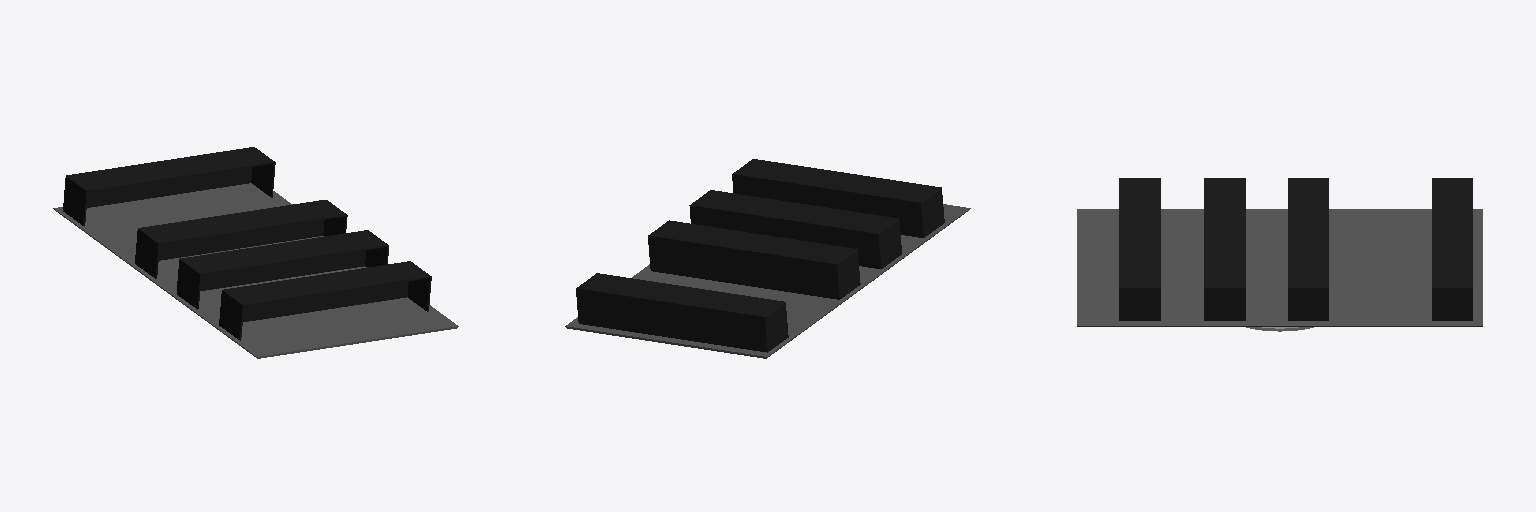
The model's file is dof_rootd_Aa002_r.obj.
3 renders of one model, left to right at view 1: azimuth 30°, elevation 25°; view 2: azimuth 150°, elevation 25°; view 3: azimuth 270°, elevation 25°, orthographic.
Visible parts, largest first — view 1: rootd_Aa002_g9__Geometry_0, rootd_Aa002_g7__Geometry_0, rootd_Aa002_g6__Geometry_0, rootd_Aa002_g5__Geometry_0, rootd_Aa002_g4__Geometry_0; view 2: rootd_Aa002_g7__Geometry_0, rootd_Aa002_g4__Geometry_0, rootd_Aa002_g6__Geometry_0, rootd_Aa002_g5__Geometry_0, rootd_Aa002_g9__Geometry_0; view 3: rootd_Aa002_g9__Geometry_0, rootd_Aa002_g5__Geometry_0, rootd_Aa002_g6__Geometry_0, rootd_Aa002_g7__Geometry_0, rootd_Aa002_g4__Geometry_0.
Part boxes in pixels (bbox=[...]): rootd_Aa002_g9__Geometry_0: bbox=[53, 183, 458, 358]; rootd_Aa002_g7__Geometry_0: bbox=[63, 147, 275, 225]; rootd_Aa002_g6__Geometry_0: bbox=[219, 261, 431, 340]; rootd_Aa002_g5__Geometry_0: bbox=[177, 230, 388, 309]; rootd_Aa002_g4__Geometry_0: bbox=[135, 200, 347, 278]; rootd_Aa002_g7__Geometry_0: bbox=[576, 273, 788, 352]; rootd_Aa002_g4__Geometry_0: bbox=[648, 220, 860, 299]; rootd_Aa002_g6__Geometry_0: bbox=[732, 159, 944, 237]; rootd_Aa002_g5__Geometry_0: bbox=[689, 190, 901, 268]; rootd_Aa002_g9__Geometry_0: bbox=[565, 204, 970, 358]; rootd_Aa002_g9__Geometry_0: bbox=[1077, 209, 1482, 326]; rootd_Aa002_g5__Geometry_0: bbox=[1204, 178, 1245, 320]; rootd_Aa002_g6__Geometry_0: bbox=[1119, 178, 1160, 320]; rootd_Aa002_g7__Geometry_0: bbox=[1432, 178, 1472, 320]; rootd_Aa002_g4__Geometry_0: bbox=[1288, 178, 1328, 320].
Bounding box in the file's own units: 0.4231 × 0.1299 × 0.7365.